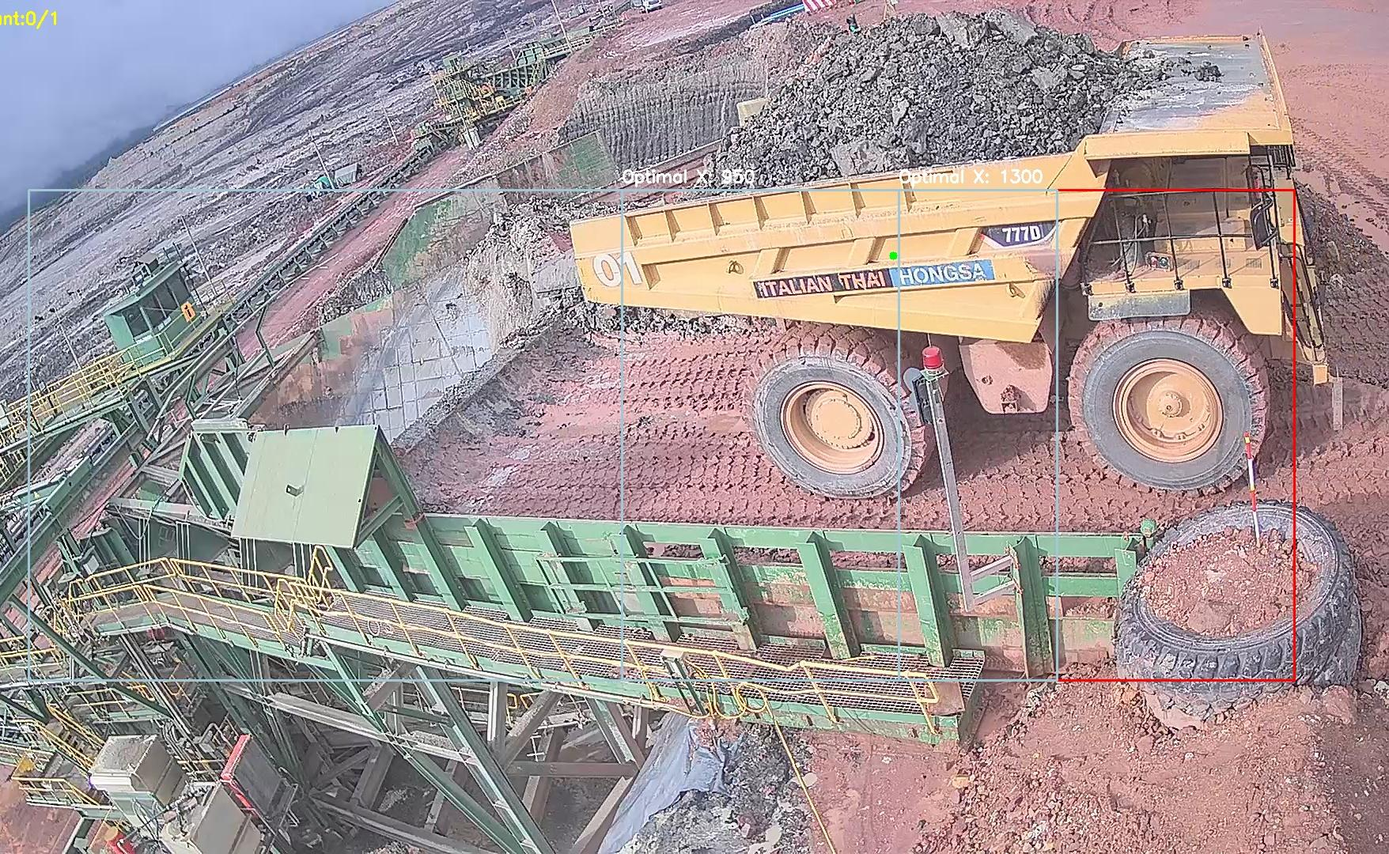company: (741, 247, 1000, 308)
full_load: (751, 10, 1115, 191)
mining_truck: (567, 1, 1351, 509)
tail_number: (584, 238, 650, 296)
truck_size: (974, 215, 1063, 250)
